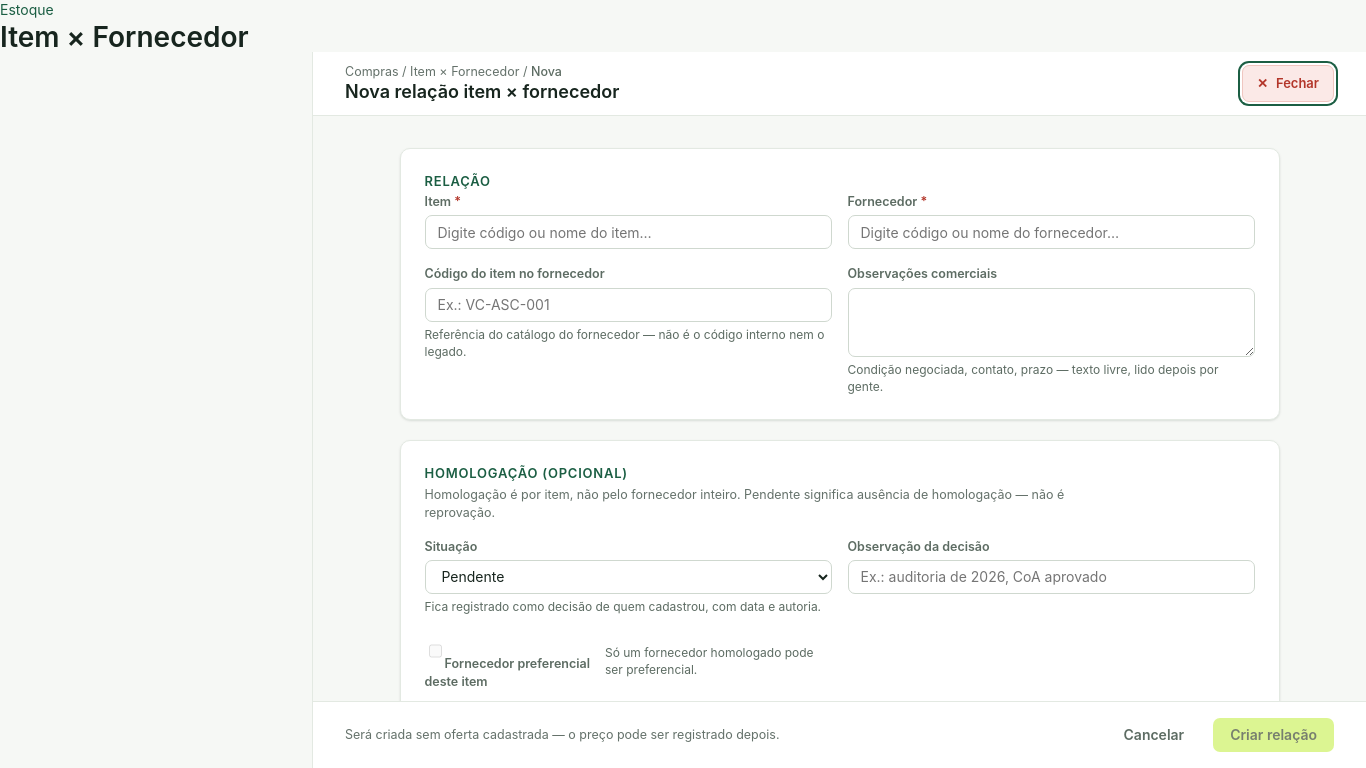
Item × Fornecedor — navegação pelo menu › modal limpo sai pela sidebar sem diálogo
Expected: the heading "Nova relação item × fornecedor" is shown, [345,81,619,104]
Click the link "Estoque": (27, 10) [0,1,54,18]
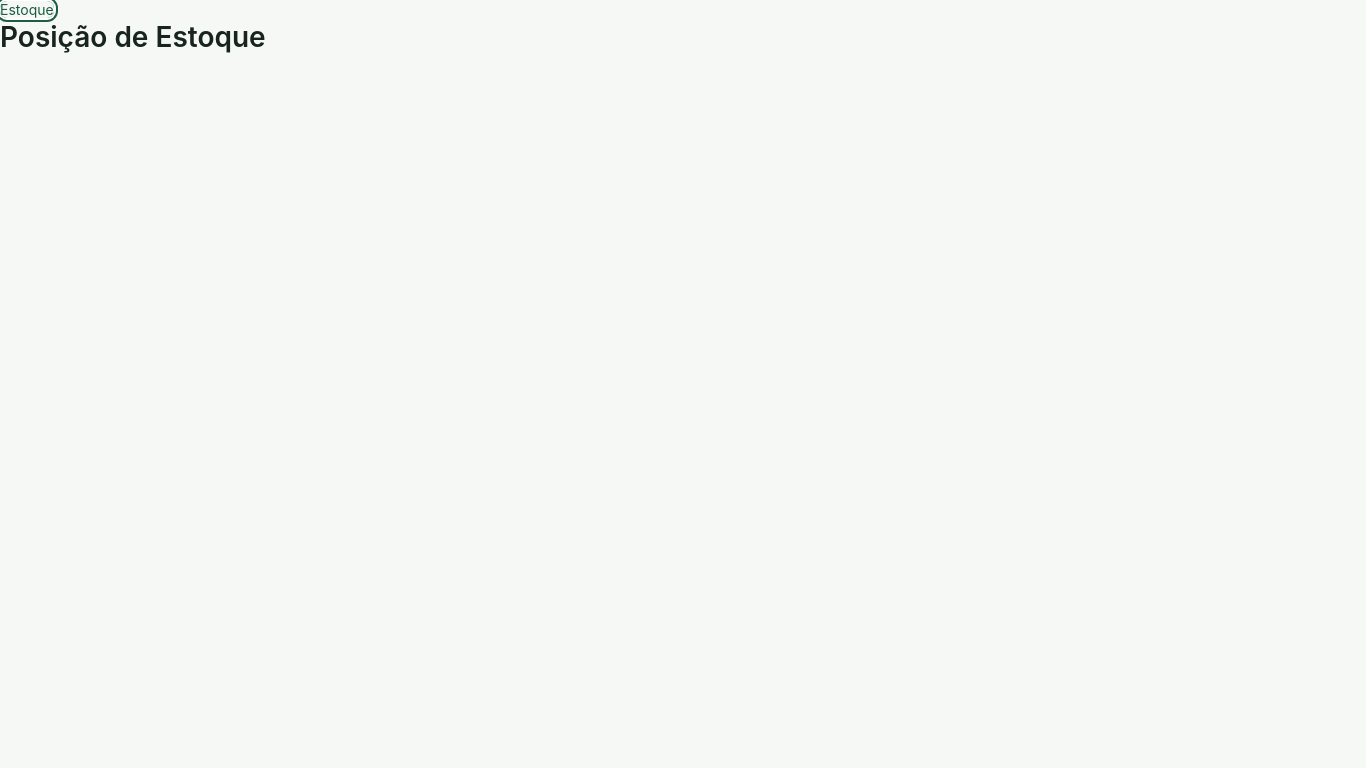
Expected: the heading "Posição de Estoque" is shown, [0,20,266,54]
Expected: the dialog is gone
